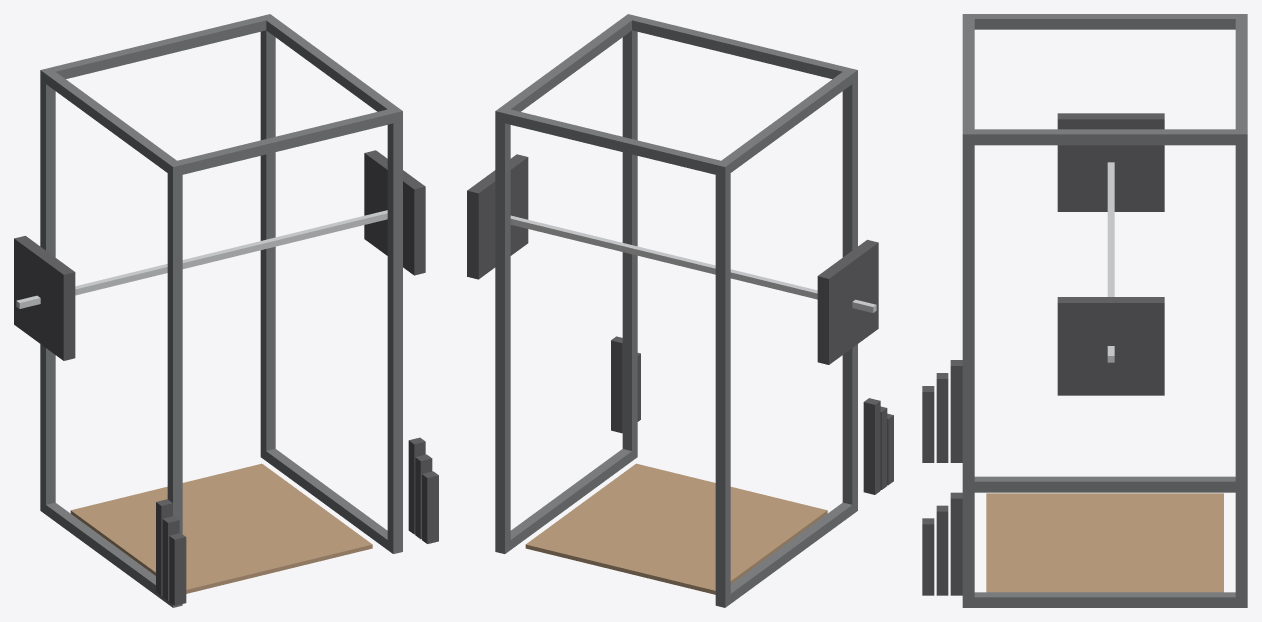
Rendered from Power_Rack.fbx.
The picture shows the model from 3 angles, left to right: view 1: azimuth 30°, elevation 25°; view 2: azimuth 150°, elevation 25°; view 3: azimuth 270°, elevation 25°; orthographic projection. The views are drawn at different scales.
Parts seen in each view (by area): view 1: Power_Rack; view 2: Power_Rack; view 3: Power_Rack.
Boxes of the visible parts, left/top/right/bottom form: Power_Rack: left=14, top=14, right=438, bottom=607; Power_Rack: left=467, top=14, right=893, bottom=607; Power_Rack: left=922, top=14, right=1247, bottom=607.
Size of the model in its own units: 2.1 by 2.2 by 1.37.
